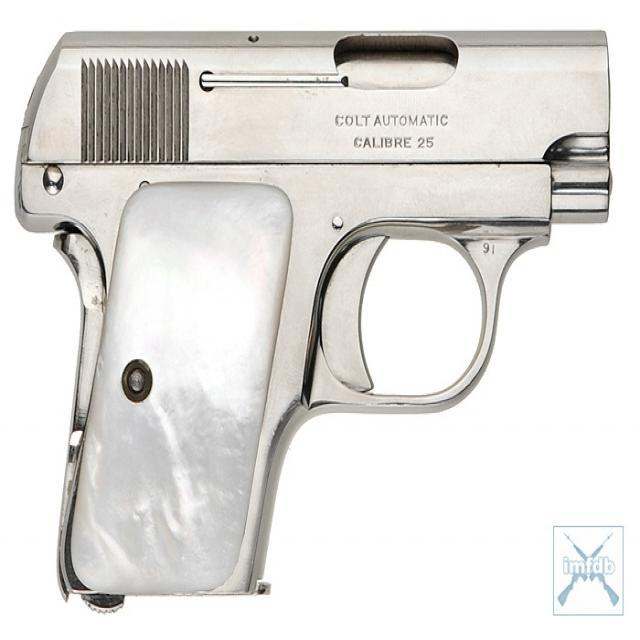gun-knife-thesis - v11 Yolov5 augmented: (8, 7, 622, 589)
